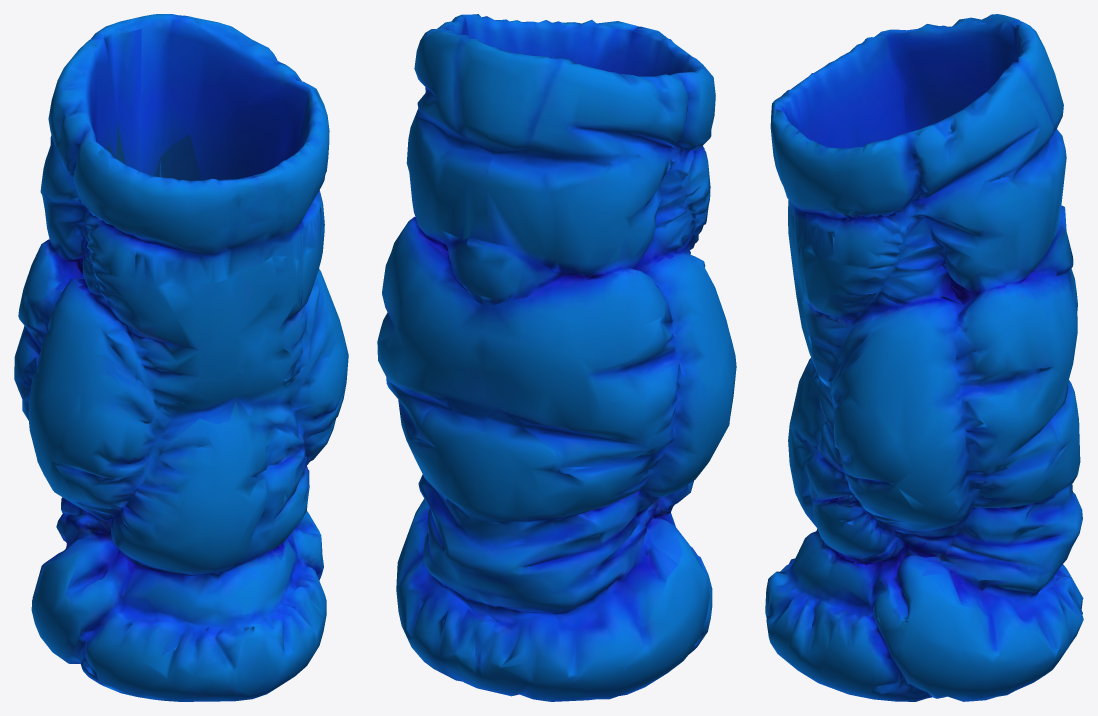
Rendered from 02_5_gs_pv_ii_l_vase-opt-v8.glb.
3 views of the same model, side by side, from view 1: azimuth 30°, elevation 25°; view 2: azimuth 150°, elevation 25°; view 3: azimuth 270°, elevation 25° (orthographic). The views are drawn at different scales.
Parts seen in each view (by area): view 1: tripo_material_30cd3fdd-a4f8-4ca0-9b30-f44c7f31c2cc.005; view 2: tripo_material_30cd3fdd-a4f8-4ca0-9b30-f44c7f31c2cc.005; view 3: tripo_material_30cd3fdd-a4f8-4ca0-9b30-f44c7f31c2cc.005.
Boxes of the visible parts, bbox=[...] form: tripo_material_30cd3fdd-a4f8-4ca0-9b30-f44c7f31c2cc.005: bbox=[14, 14, 348, 701]; tripo_material_30cd3fdd-a4f8-4ca0-9b30-f44c7f31c2cc.005: bbox=[377, 14, 736, 701]; tripo_material_30cd3fdd-a4f8-4ca0-9b30-f44c7f31c2cc.005: bbox=[765, 14, 1083, 701].
Bounding box in the file's own units: 0.2332 × 0.4402 × 0.2072.
Materials: 1 (1 with a texture image).
